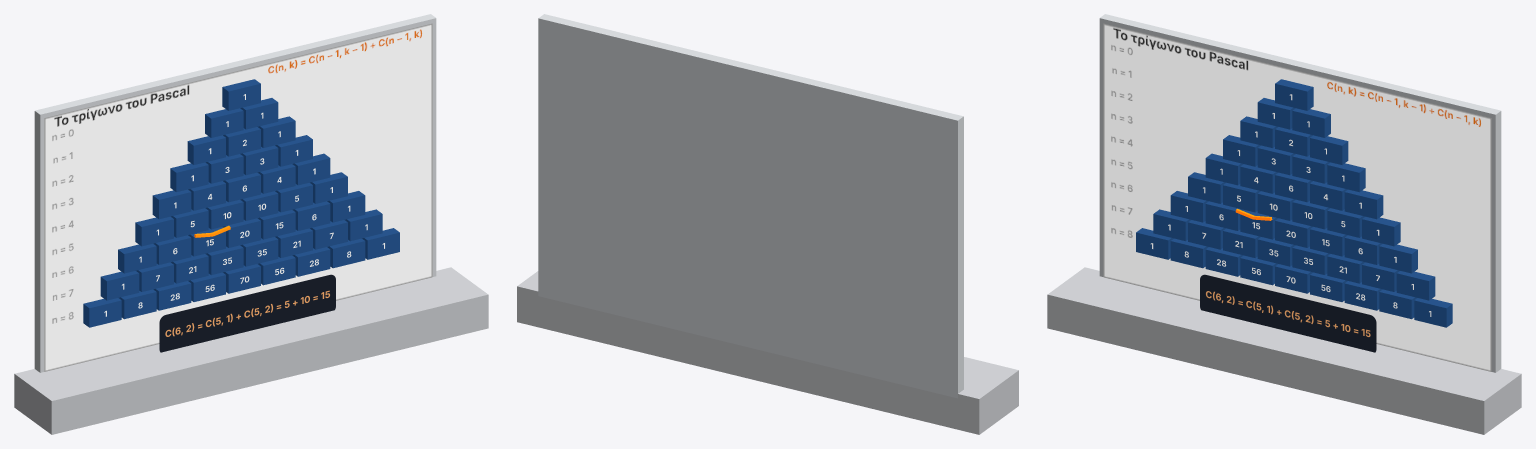
File: pithanotites-syndyastiki.glb
3 views of the same model, side by side, from view 1: azimuth 30°, elevation 25°; view 2: azimuth 150°, elevation 25°; view 3: azimuth 330°, elevation 25° (orthographic). The views are drawn at different scales.
Visible parts, largest first — view 1: pinakas, vasi, piso, typos_m, t0_0_b, t7_0_b, t4_0_b, t1_0_b, t6_0_b, t8_0_b, t2_0_b, t3_0_b (+37 smaller); view 2: piso, vasi; view 3: pinakas, vasi, piso, typos_m, t0_0_b, t4_4_b, t7_7_b, t1_1_b, t8_8_b, t3_3_b, t6_6_b, t2_2_b (+37 smaller).
Boxes of the visible parts, bbox=[...] form: pinakas: bbox=[44, 23, 432, 371]; vasi: bbox=[14, 267, 488, 434]; piso: bbox=[34, 14, 436, 372]; typos_m: bbox=[159, 274, 335, 352]; t0_0_b: bbox=[222, 79, 260, 110]; t7_0_b: bbox=[100, 271, 139, 300]; t4_0_b: bbox=[152, 189, 191, 219]; t1_0_b: bbox=[205, 108, 243, 137]; t6_0_b: bbox=[118, 244, 156, 273]; t8_0_b: bbox=[83, 298, 121, 327]; t2_0_b: bbox=[187, 135, 225, 164]; t3_0_b: bbox=[170, 162, 208, 192]; piso: bbox=[538, 14, 963, 398]; vasi: bbox=[517, 271, 1018, 434]; pinakas: bbox=[1103, 23, 1491, 371]; vasi: bbox=[1047, 267, 1521, 434]; piso: bbox=[1099, 14, 1501, 372]; typos_m: bbox=[1200, 274, 1376, 352]; t0_0_b: bbox=[1275, 79, 1313, 110]; t4_4_b: bbox=[1344, 189, 1383, 219]; t7_7_b: bbox=[1396, 271, 1435, 300]; t1_1_b: bbox=[1292, 108, 1330, 137]; t8_8_b: bbox=[1414, 298, 1452, 327]; t3_3_b: bbox=[1327, 162, 1365, 192]; t6_6_b: bbox=[1379, 244, 1417, 273]; t2_2_b: bbox=[1310, 135, 1348, 164].
Bounding box in the file's own units: 0.2812 × 0.1797 × 0.0418.
7 materials, 2 textured.
